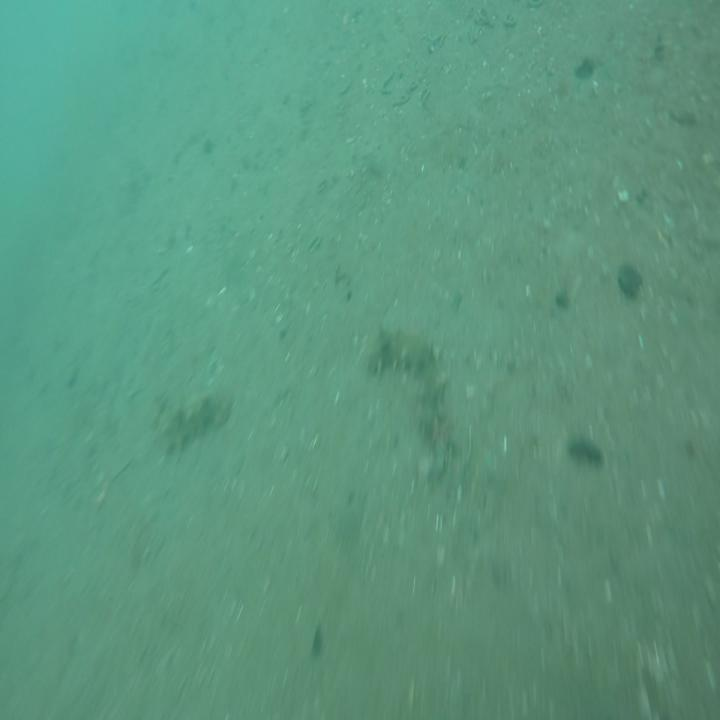holothurian: (361, 330, 447, 437), (144, 386, 234, 459)
